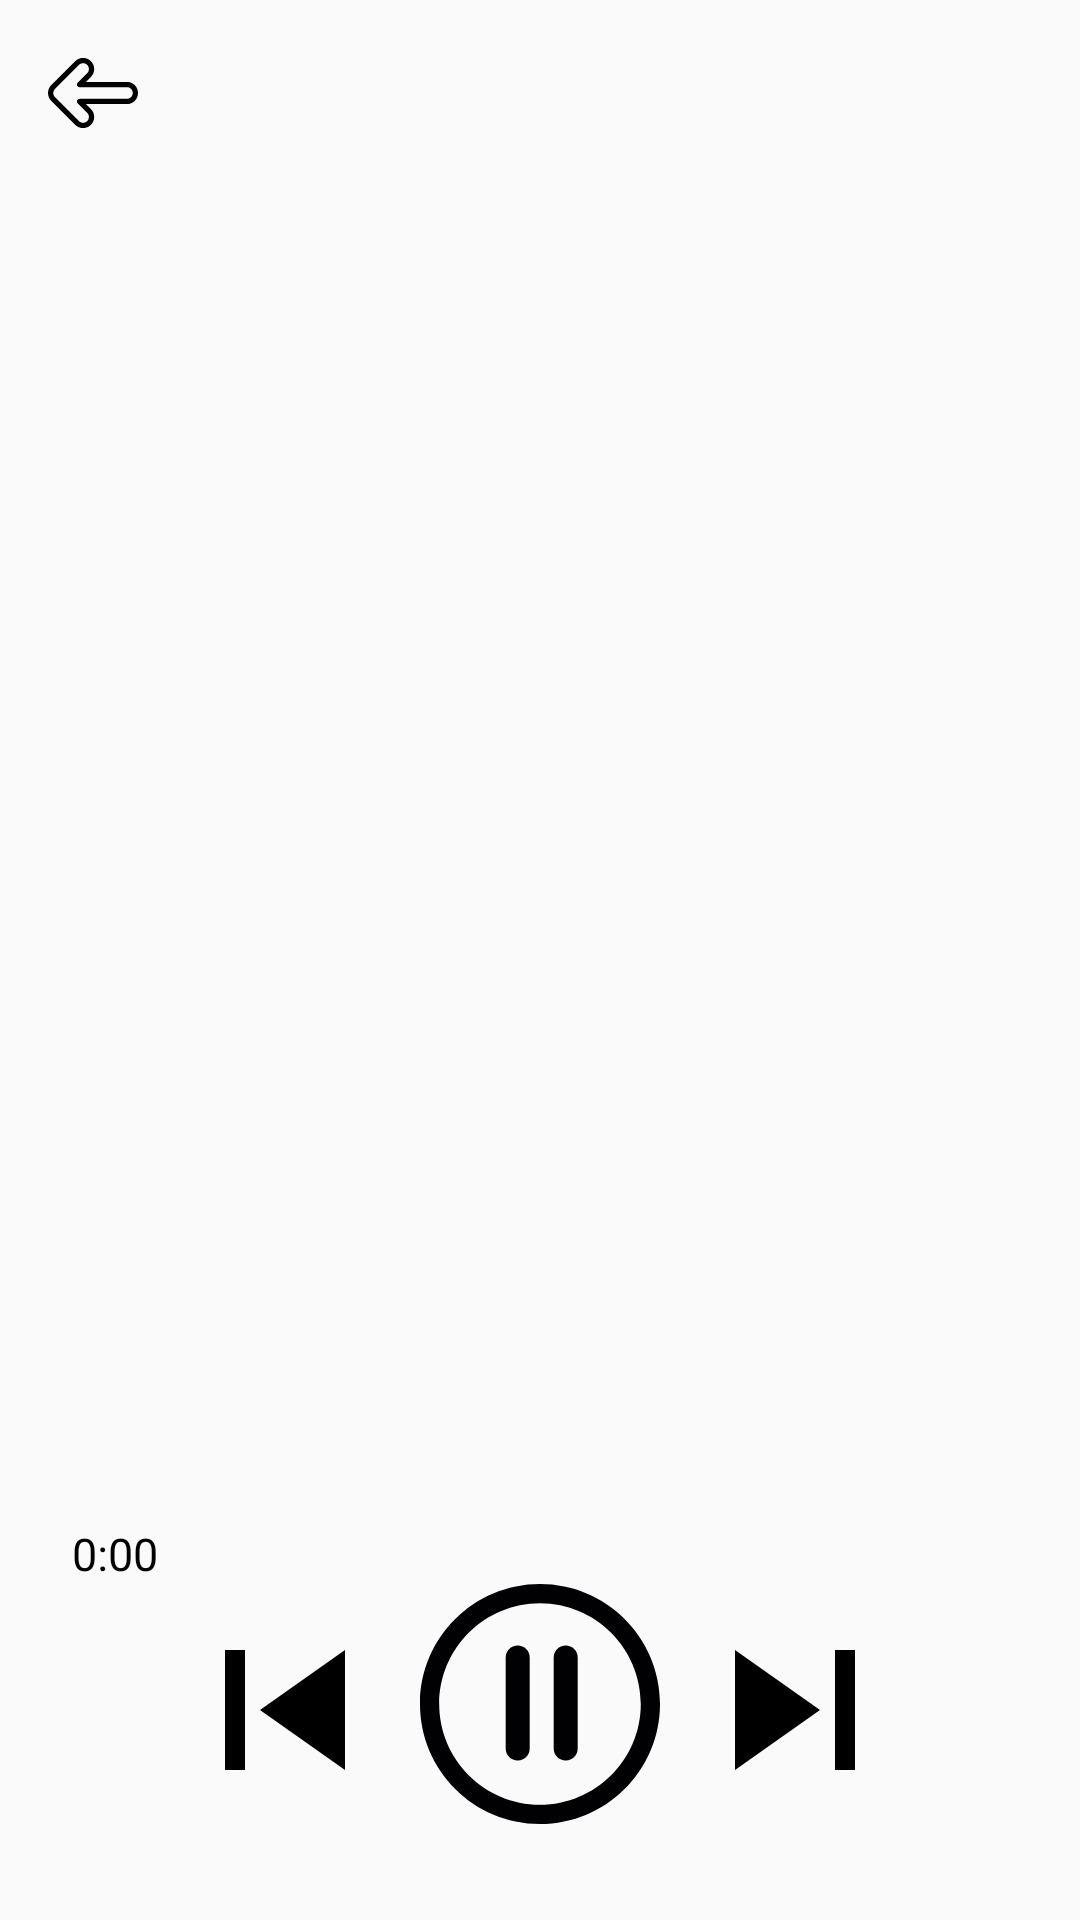

Screen size 1080 × 1920. Icon name, then its center in pixels as (x,y):
back: (93,93)
next: (795,1710)
pause: (540,1704)
previous: (285,1710)
